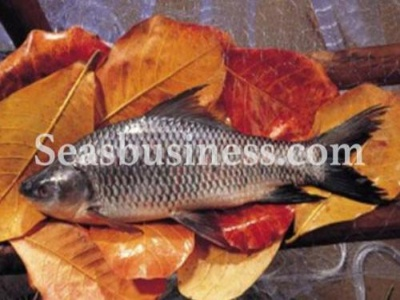rohu: (18, 83, 395, 250)
